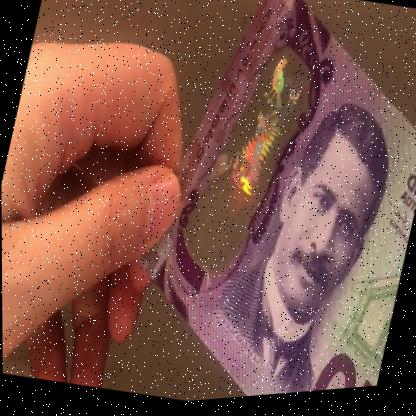50F: (202, 49, 320, 277)
